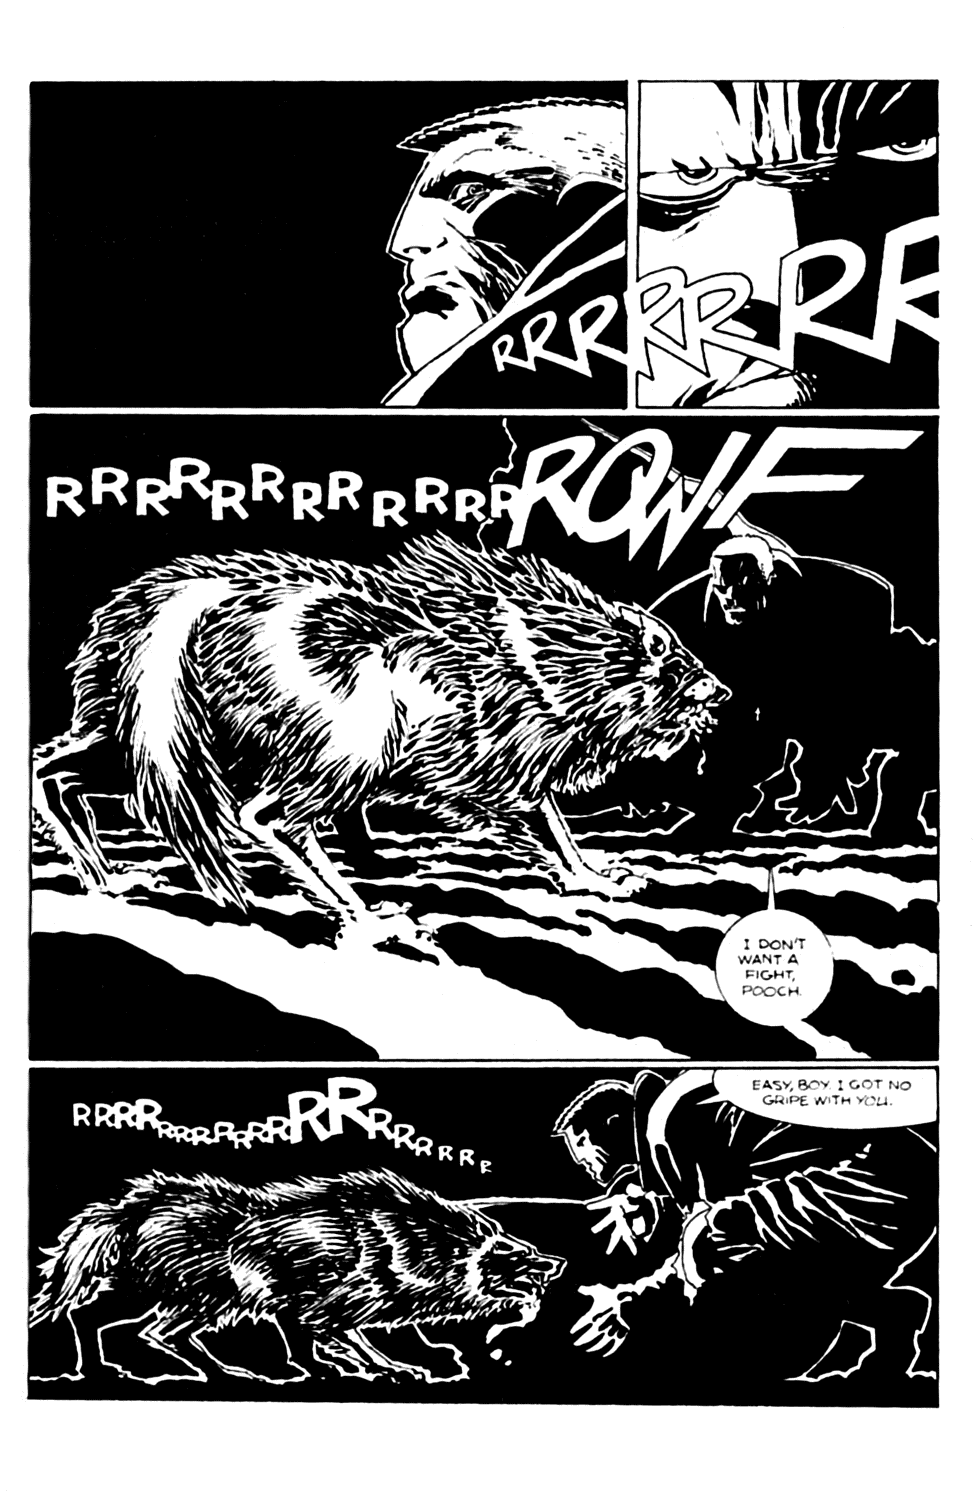Baloon: (715, 896, 836, 1025), (706, 1063, 941, 1128)
Vignetta: (27, 417, 936, 1058), (29, 1063, 946, 1405), (31, 79, 624, 410), (635, 77, 938, 410)
